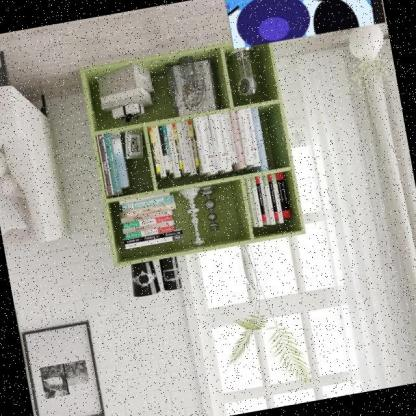Shelf: (76, 29, 312, 272)
